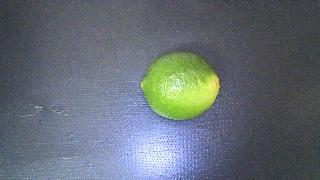EXPORTACION: (141, 52, 219, 120)
